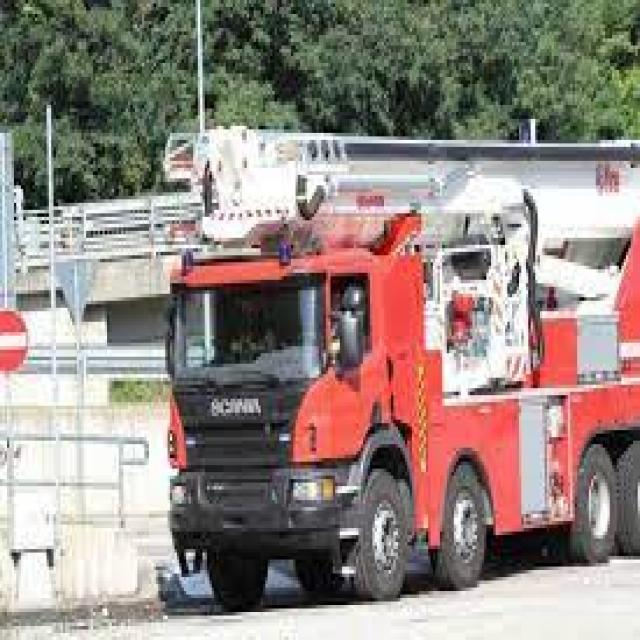pompier: (165, 193, 640, 591)
